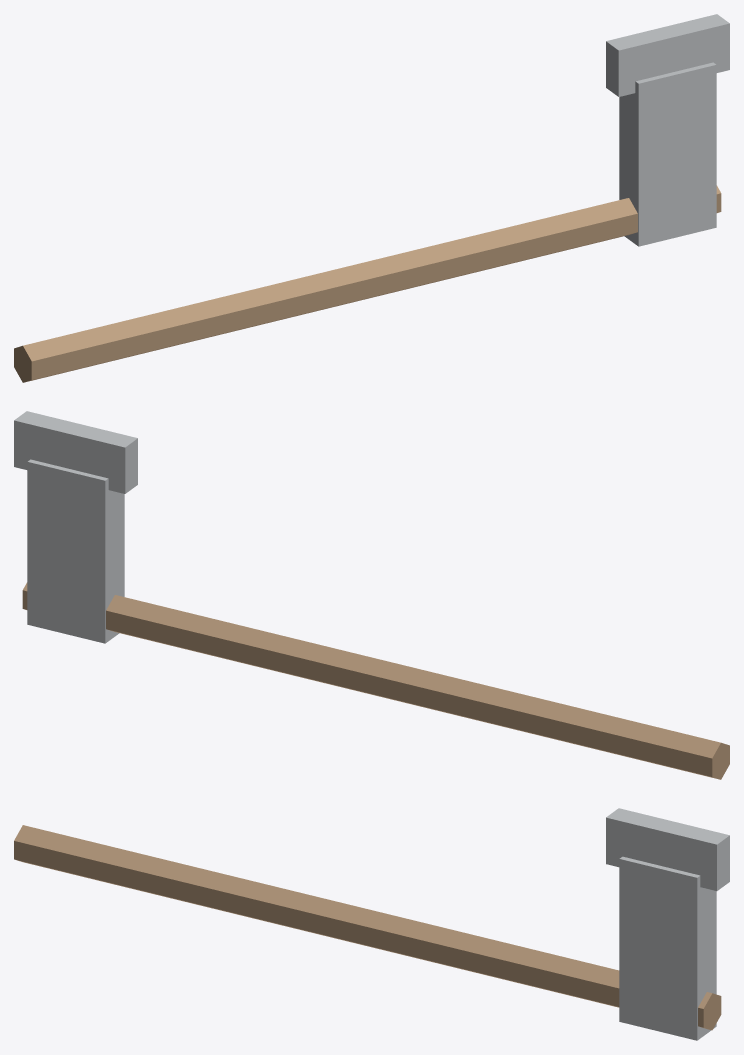
File: held_tool_metal_hatchet.glb
3 views of the same model, one above another, from view 1: azimuth 30°, elevation 25°; view 2: azimuth 150°, elevation 25°; view 3: azimuth 330°, elevation 25° (orthographic).
Visible parts, largest first — view 1: held_tool_metal_hatchet; view 2: held_tool_metal_hatchet; view 3: held_tool_metal_hatchet.
Part boxes in pixels (left/top/right/bottom): held_tool_metal_hatchet: left=14, top=14, right=729, bottom=382; held_tool_metal_hatchet: left=14, top=411, right=729, bottom=779; held_tool_metal_hatchet: left=14, top=808, right=729, bottom=1040.
Size of the model in its own units: 0.63 by 0.17 by 0.03.
